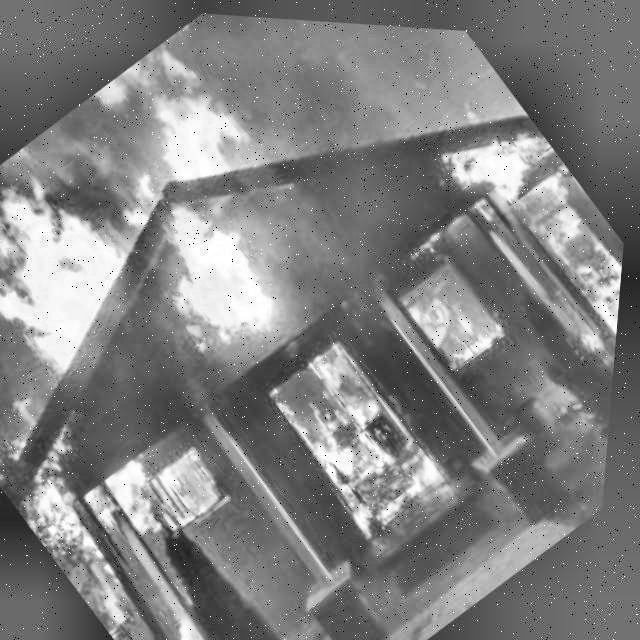Fire: (415, 83, 636, 439), (250, 320, 483, 559), (0, 128, 172, 394), (112, 171, 313, 378), (89, 23, 277, 213), (10, 413, 190, 589), (374, 226, 538, 393), (146, 437, 241, 531), (152, 590, 240, 640)
